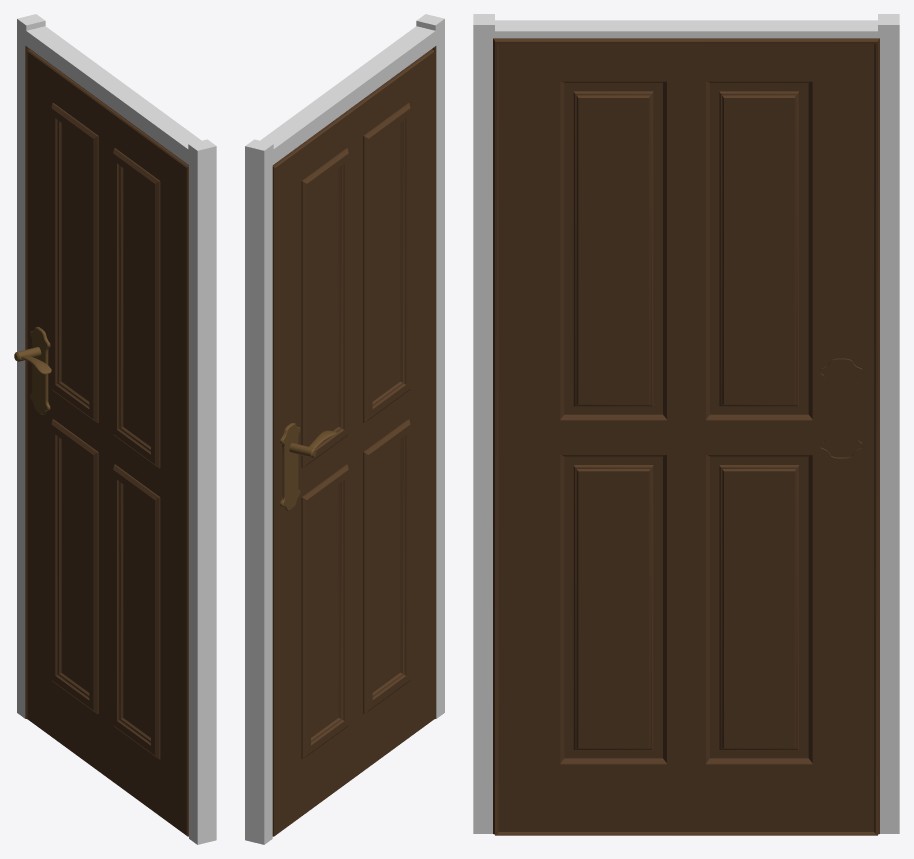
The model's file is Zimmertüren.fbx.
3 views of the same model, side by side, from view 1: azimuth 30°, elevation 25°; view 2: azimuth 150°, elevation 25°; view 3: azimuth 270°, elevation 25° (orthographic). The views are drawn at different scales.
Parts seen in each view (by area): view 1: Door.001; view 2: Door.001; view 3: Door.001.
Part boxes in pixels (box(x1,y1,x2,y2)): Door.001: box(14, 14, 216, 844); Door.001: box(245, 14, 444, 844); Door.001: box(473, 14, 899, 835).
Bounding box in the file's own units: 14.01 × 207 × 97.41.
